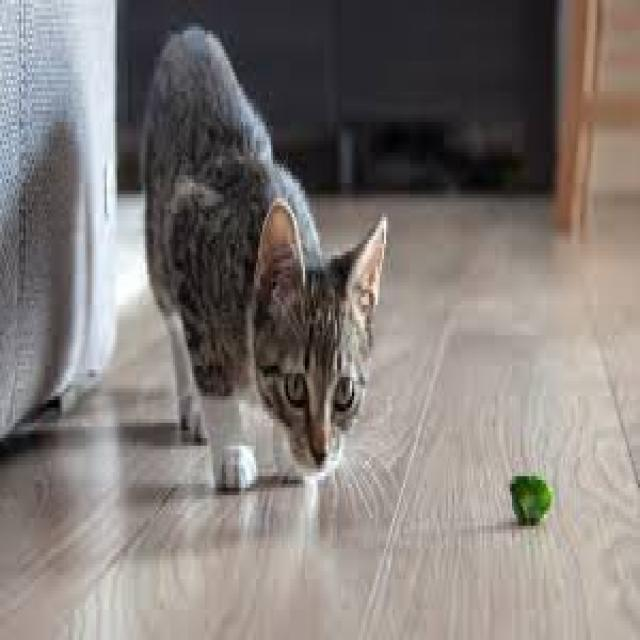cat: (187, 183, 378, 487)
